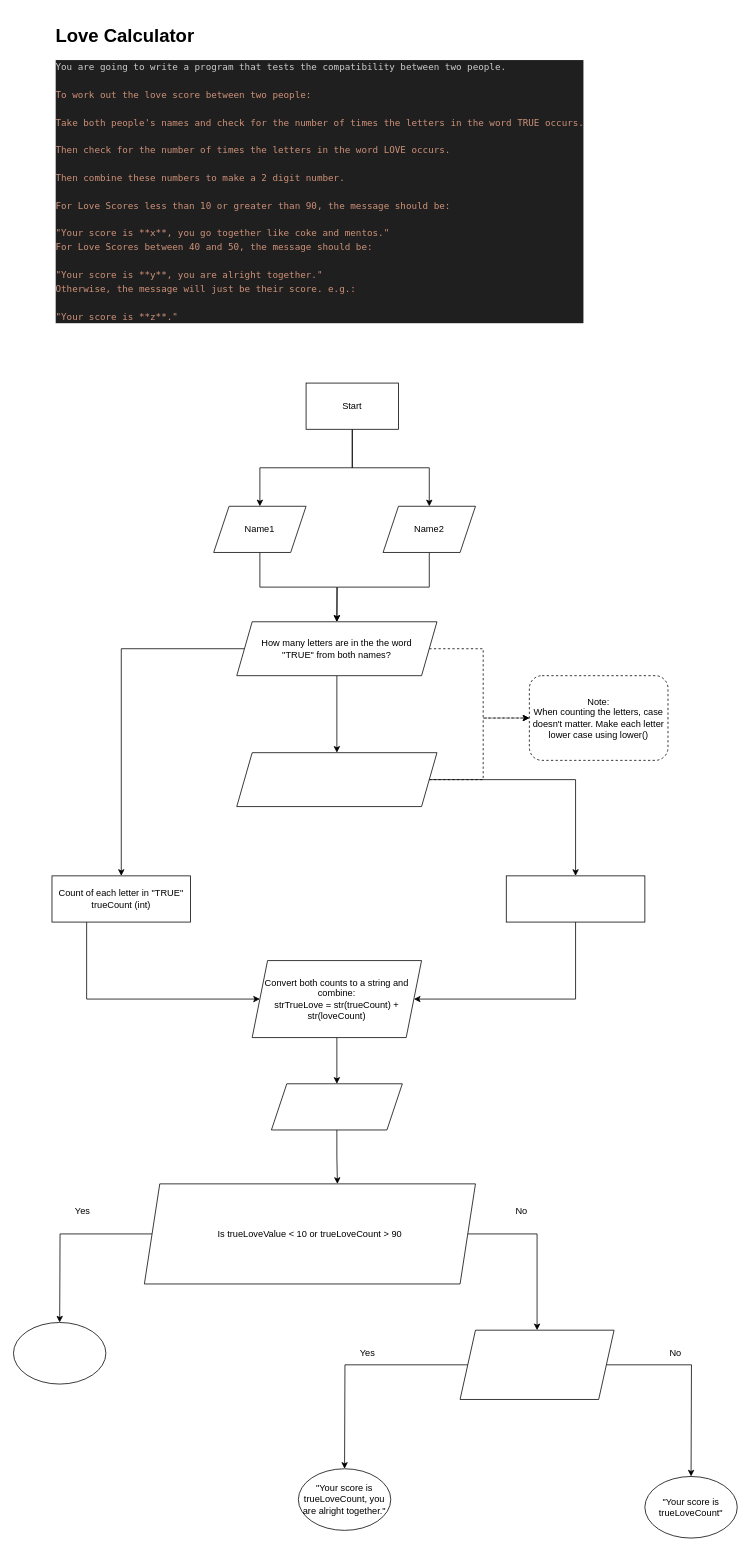
The diagram is 751 pixels wide and 1552 high, and some of its shapes have lost their labels. The shapes that lost their labels are listed below. From the top down, each one's centre as x and y in pixels, then its label:
point (336, 779): How many letters are in the the word "LOVE" from both names?
point (575, 898): Count of each letter in "LOVE" loveCount (int)
point (336, 1106): Convert string back into an int: trueLoveCount
point (59, 1353): "Your score is trueLoveCount, you go together like coke and mentos"
point (536, 1364): Is 40 < trueLoveCount < 50
